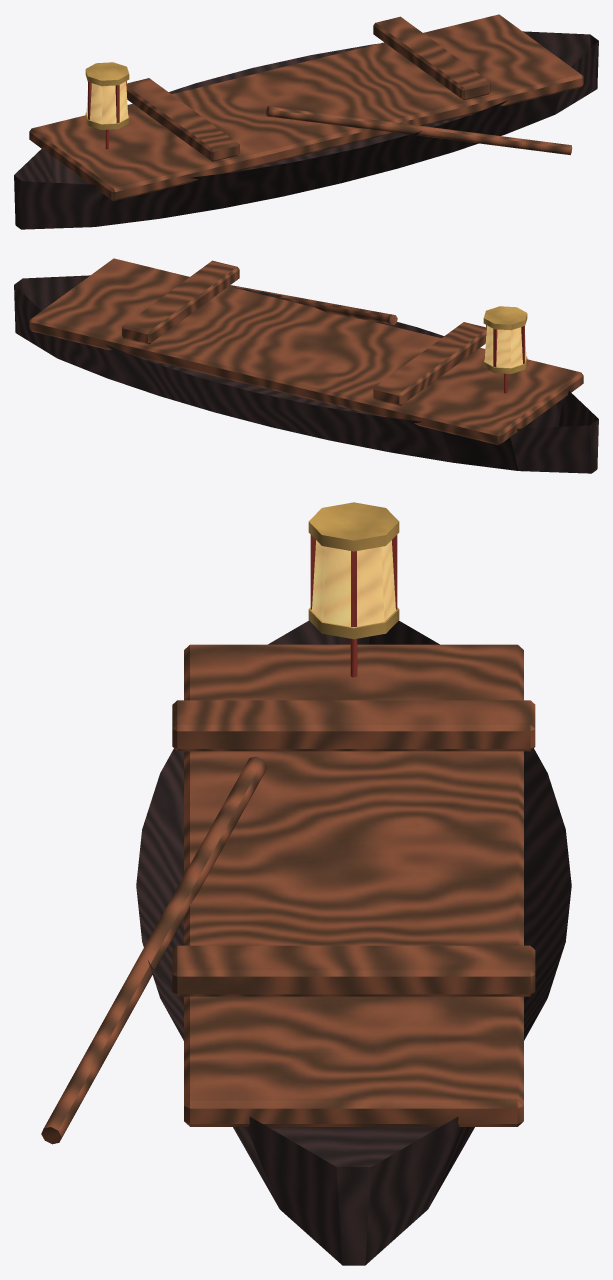
Rendered from model-skiff.glb.
3 renders of one model, top to bottom at view 1: azimuth 30°, elevation 25°; view 2: azimuth 150°, elevation 25°; view 3: azimuth 270°, elevation 25°, orthographic. The views are drawn at different scales.
Visible parts, largest first — view 1: model-skiff; view 2: model-skiff; view 3: model-skiff.
Part boxes in pixels (box(x1,y1,x2,y2)): model-skiff: box(14, 14, 598, 229); model-skiff: box(14, 258, 598, 473); model-skiff: box(41, 502, 571, 1265).
Size of the model in its own units: 5.5 by 1.23 by 2.19.
5 materials, 5 textured.
